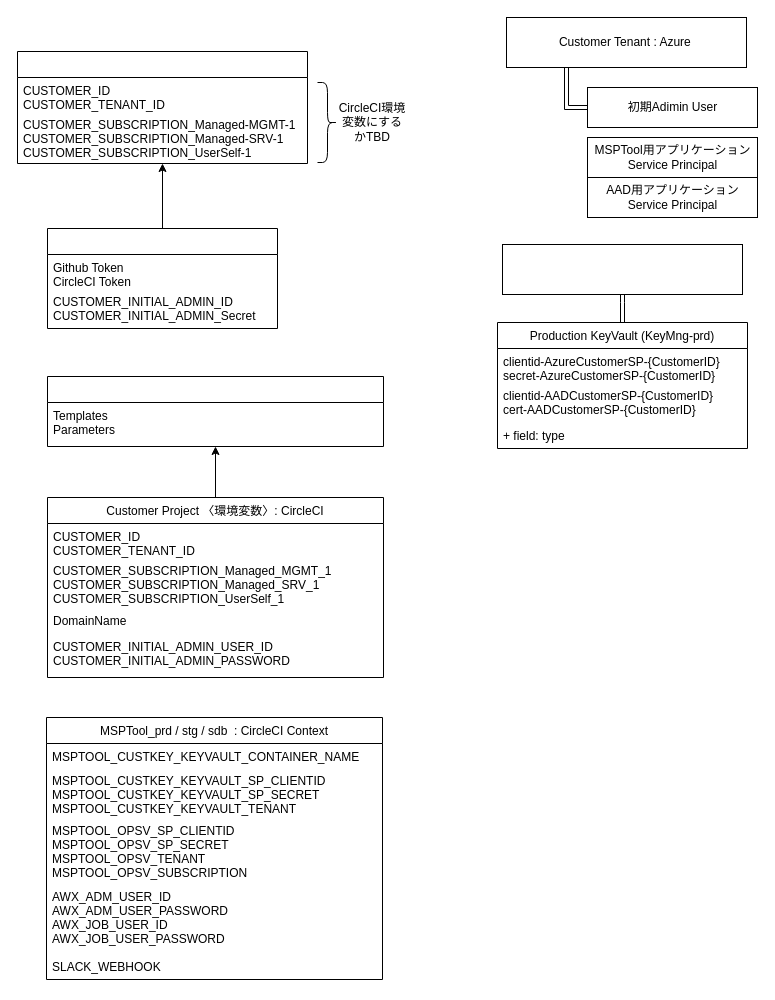
Some shapes in this 775 by 1000 pixel diagram are drawn without their labels. Here are the shapes that lost their labels. From the top down, the box of each, then its label:
(16, 50, 308, 164): msp_create_repository:GitHb
(46, 228, 278, 328): msp_create_repository:CircleCI
(502, 244, 742, 294): SB Tenant : Azure
(46, 376, 384, 446): Customer Repository : GitHub
